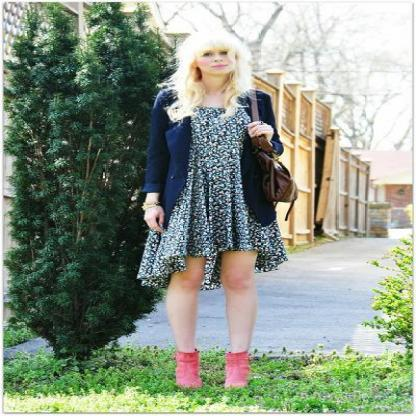bag: (266, 158, 298, 207)
dress: (136, 100, 286, 287)
jacket: (140, 90, 283, 224)
shoe: (173, 348, 252, 388)
